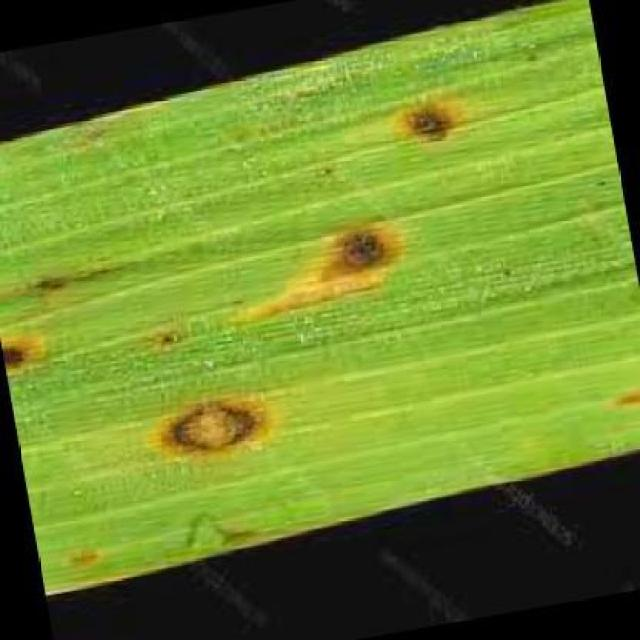Bacterial_Leaf_Blight: (142, 371, 282, 483)
Leaf_Blast: (269, 195, 417, 336), (382, 84, 473, 164), (21, 245, 124, 306), (24, 252, 81, 306), (202, 508, 267, 552), (592, 370, 640, 425), (1, 326, 42, 382), (139, 316, 192, 359), (59, 539, 112, 578)
